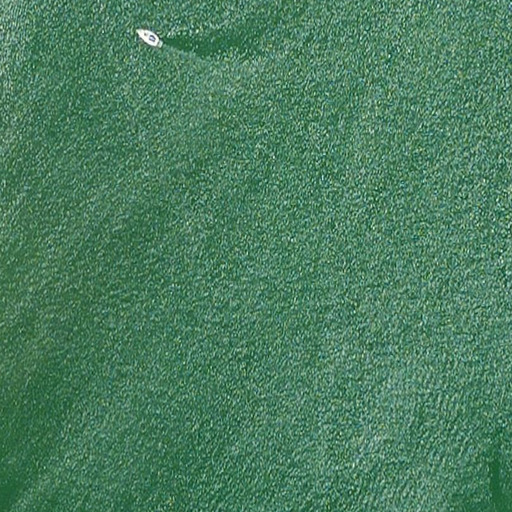ship: (135, 26, 166, 52)
